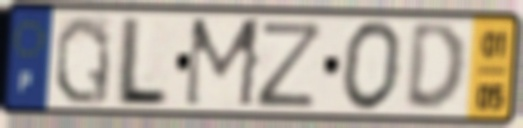D: (401, 20, 469, 116)
L: (110, 14, 173, 110)
M: (180, 16, 266, 112)
O: (340, 18, 406, 115)
Q: (52, 12, 113, 108)
Z: (255, 18, 328, 111)
